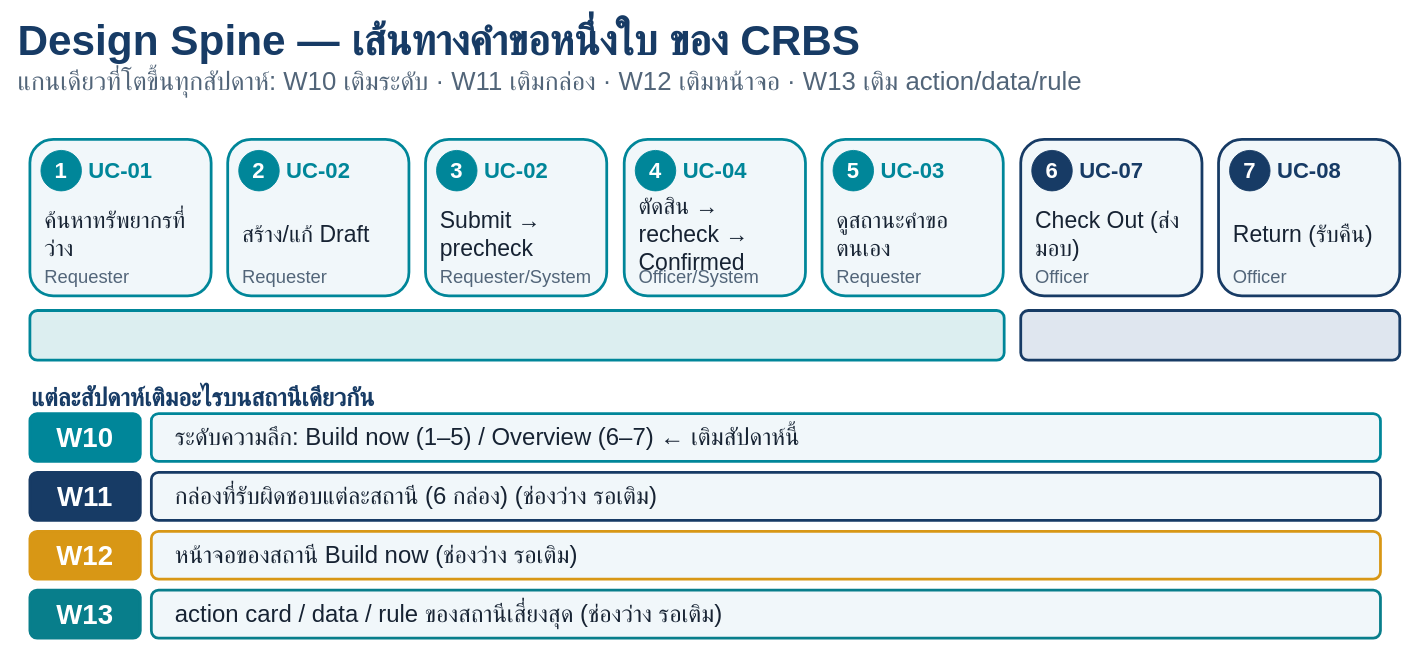
The diagram is 1417 pixels wide and 655 high, and some of its shapes have lost their labels. Here are the shapes that lost their labels. From the top down, the centre of each, then its label:
At point (516, 335): "Build now — สถานี 1–5".
At point (1210, 335): "Overview — สถานี 6–7".
